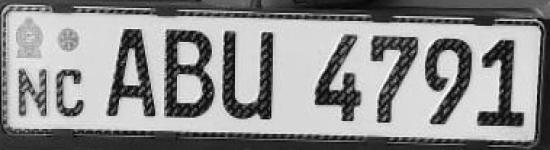1: (478, 28, 531, 134)
4: (303, 26, 367, 128)
7: (368, 27, 422, 136)
9: (422, 28, 477, 134)
A: (100, 22, 160, 122)
B: (162, 25, 220, 128)
C: (53, 64, 94, 124)
N: (15, 67, 52, 122)
U: (219, 22, 283, 128)
